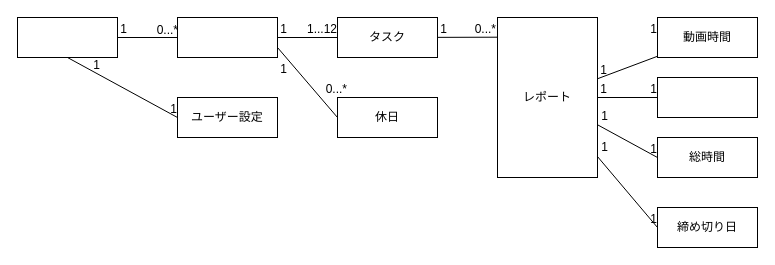
The diagram is 775 pixels wide and 265 high, and some of its shapes have lost their labels. Here are the shapes that lost their labels. From the top down, the centre of each, then its label:
At point 67,37: "ユーザー".
At point 227,37: "予定".
At point 707,97: "教科".
